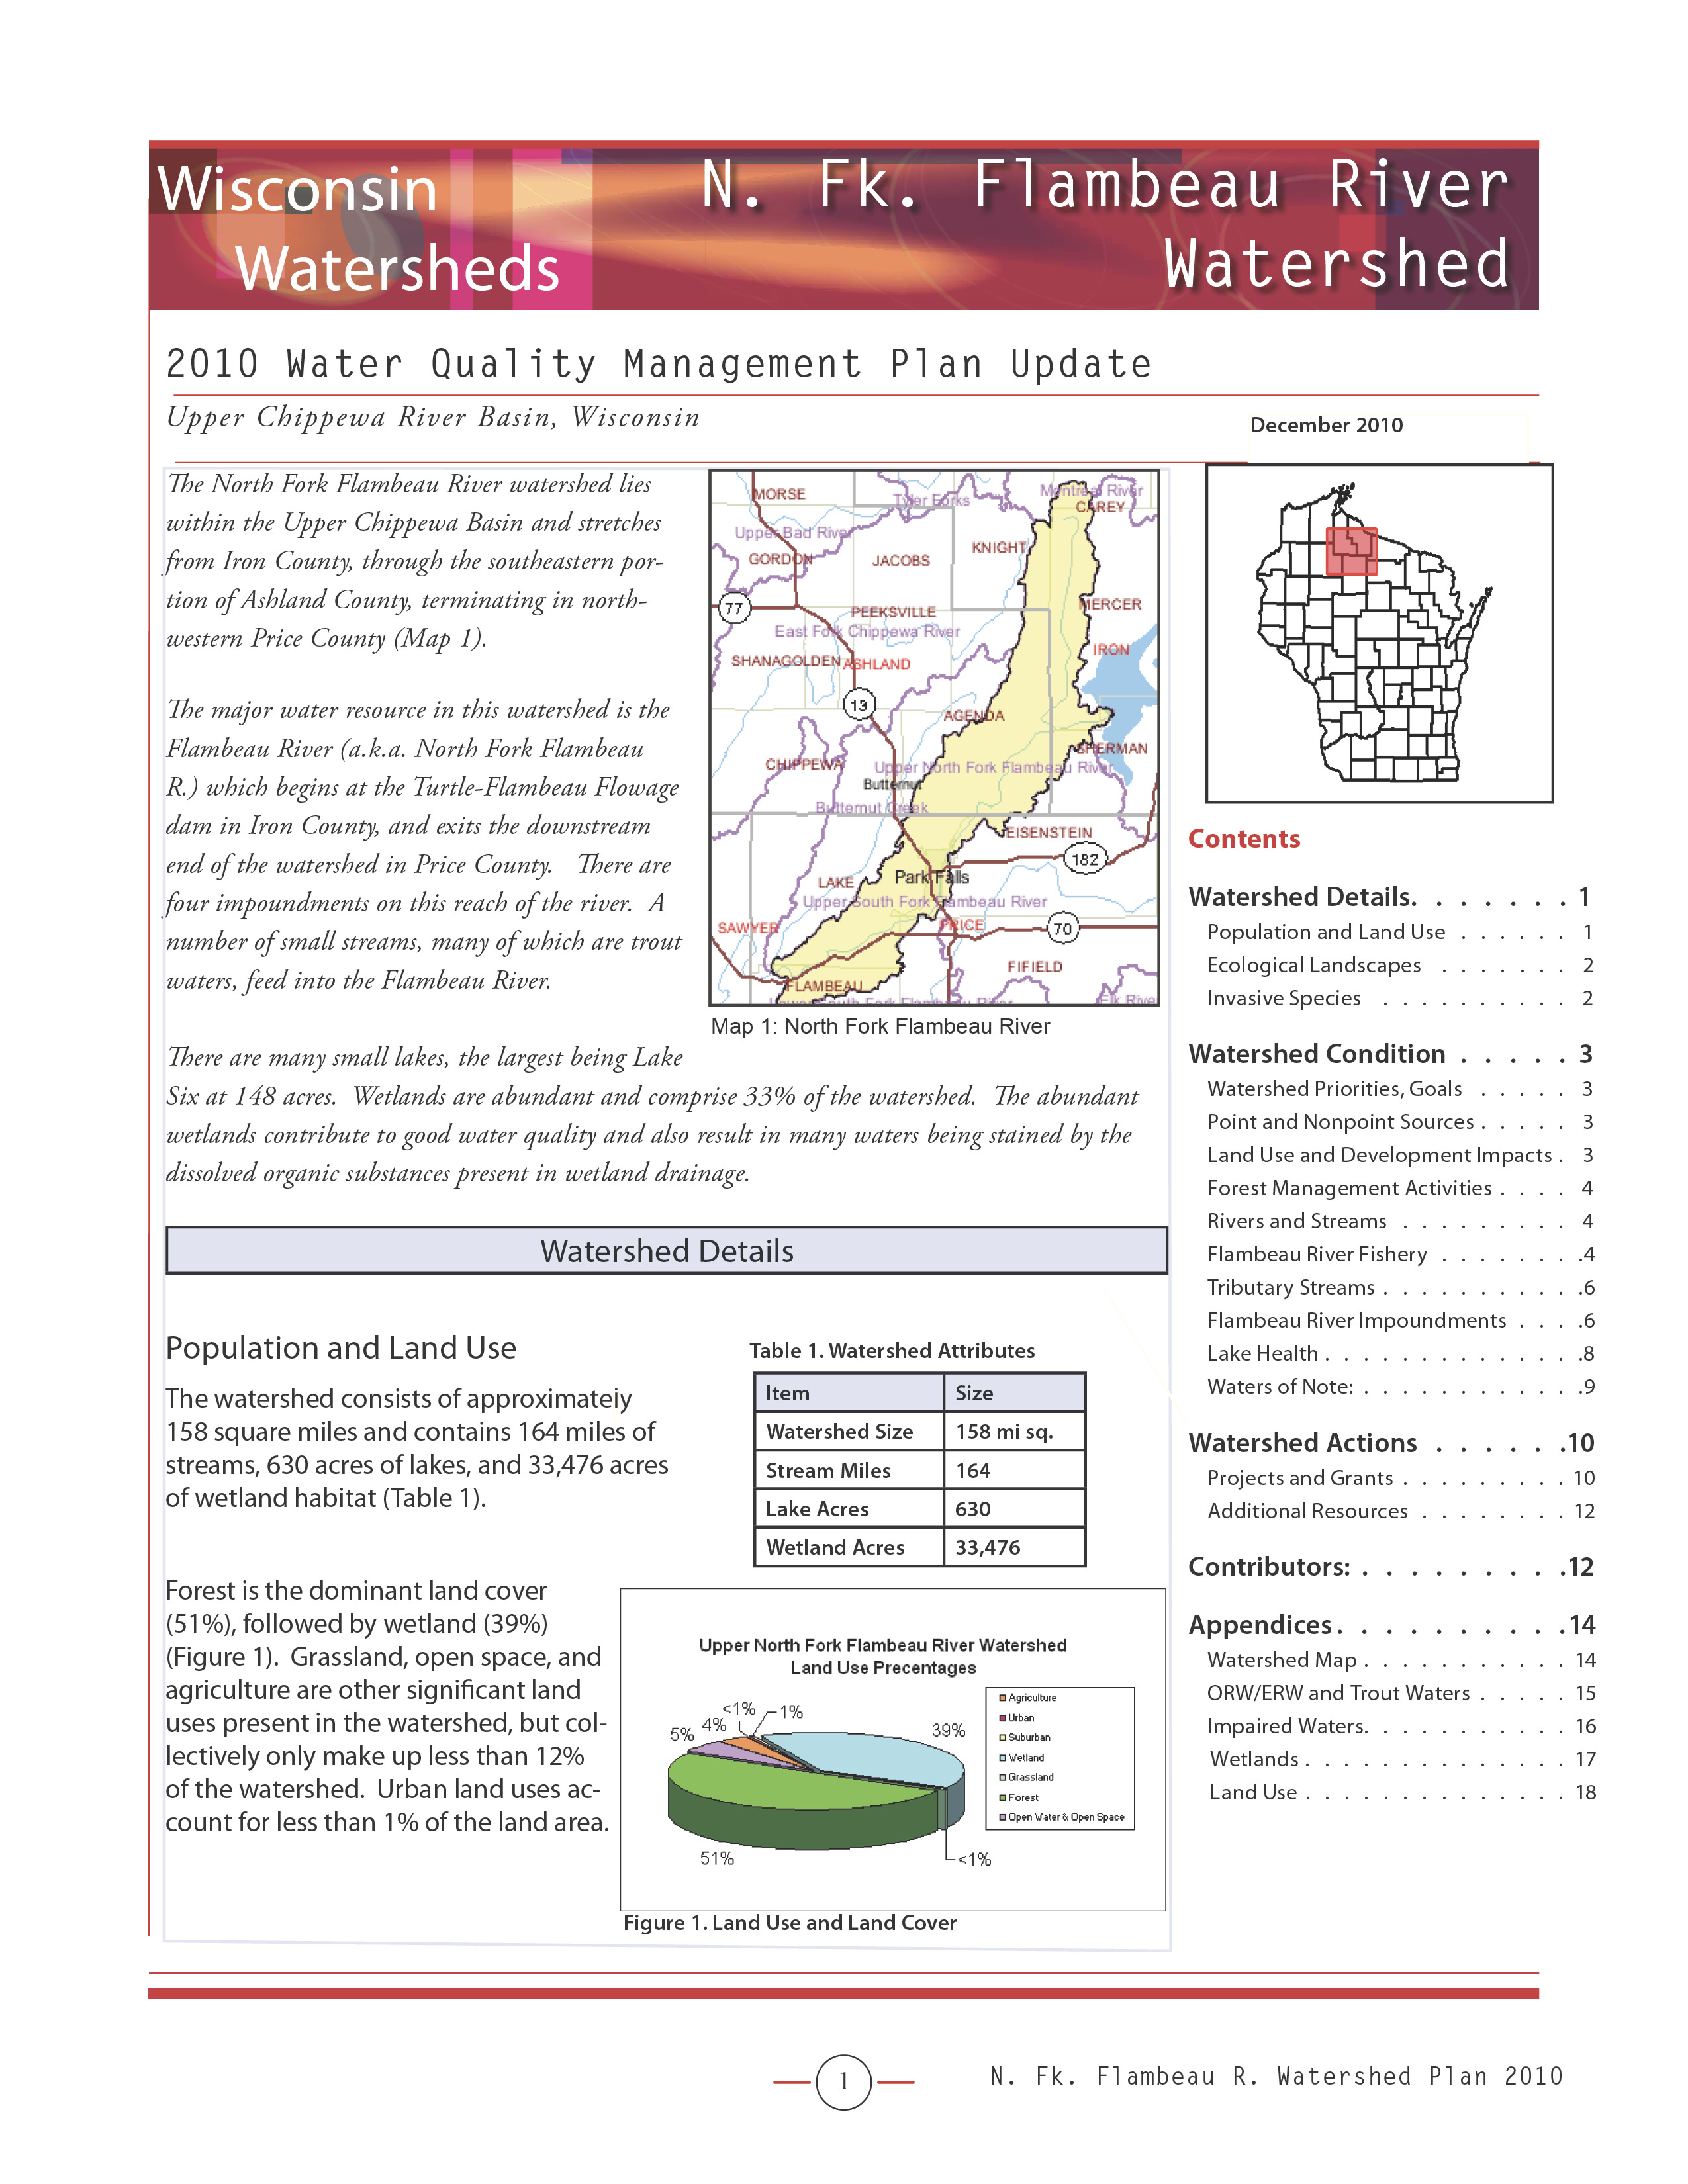figure: (709, 475, 1168, 1000), (622, 1590, 1168, 1918), (1209, 468, 1555, 805)
section: (709, 142, 1527, 298), (144, 160, 564, 308), (167, 340, 1161, 395), (177, 1331, 527, 1369), (530, 1228, 805, 1273), (757, 1338, 1032, 1369), (1190, 812, 1305, 856)
table: (1190, 879, 1614, 1815), (757, 1376, 1090, 1565)
text: (170, 686, 686, 1000), (170, 1039, 1135, 1193), (156, 1581, 613, 1838), (170, 464, 674, 667), (170, 1385, 670, 1514), (174, 404, 702, 436), (1254, 408, 1415, 440)
